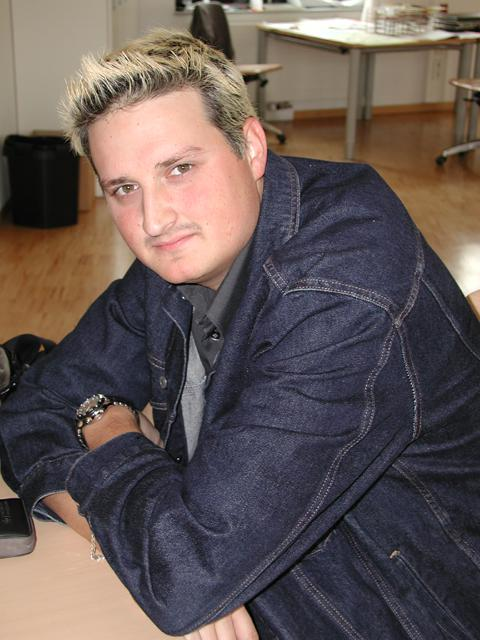Person: (4, 30, 480, 640)
